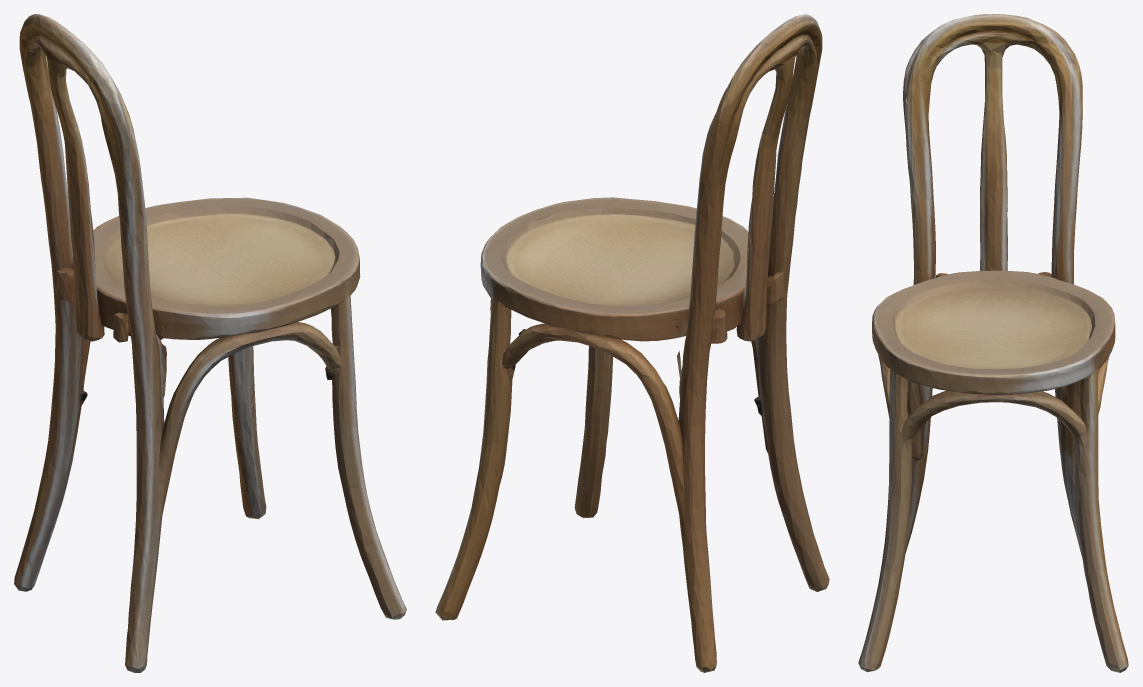
File: ast_365d3a551e24.glb
3 views of the same model, side by side, from view 1: azimuth 30°, elevation 25°; view 2: azimuth 150°, elevation 25°; view 3: azimuth 270°, elevation 25° (orthographic). The views are drawn at different scales.
Parts seen in each view (by area): view 1: geometry_0; view 2: geometry_0; view 3: geometry_0.
Part boxes in pixels (left/top/right/bottom): geometry_0: left=14, top=14, right=406, bottom=672; geometry_0: left=435, top=14, right=829, bottom=672; geometry_0: left=858, top=14, right=1128, bottom=672.
Size of the model in its own units: 0.4951 by 0.9958 by 0.4483.
1 material, 1 textured.
